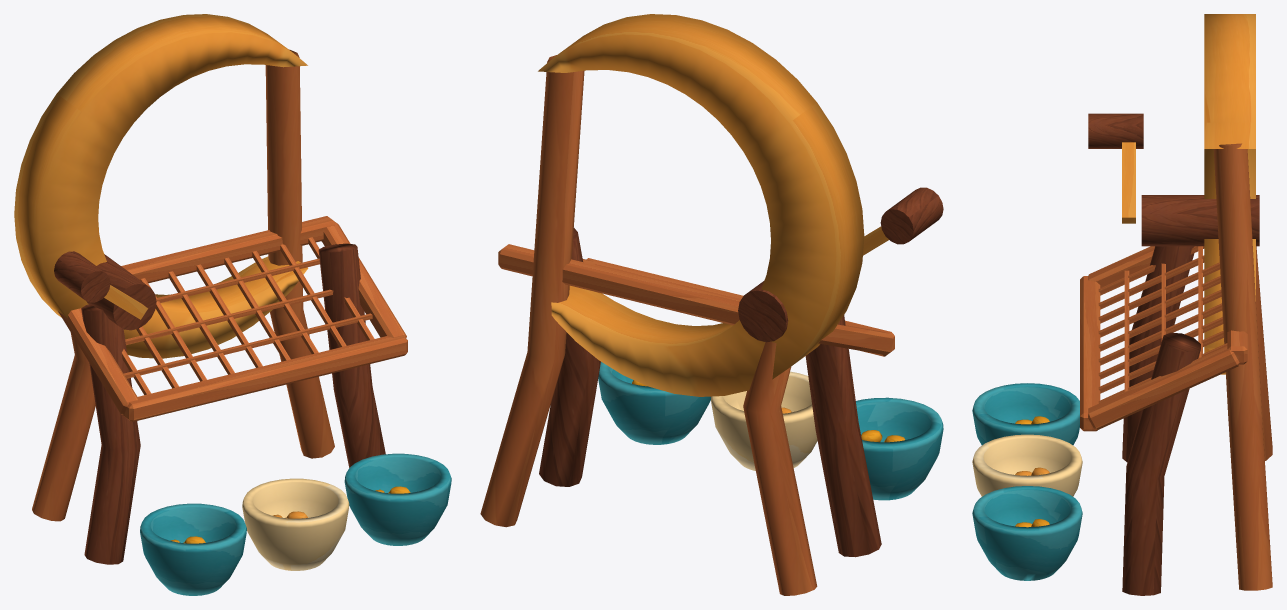
Rendered from revised-03-03.glb.
The picture shows the model from 3 angles, left to right: view 1: azimuth 30°, elevation 25°; view 2: azimuth 150°, elevation 25°; view 3: azimuth 270°, elevation 25°; orthographic projection. The views are drawn at different scales.
Parts seen in each view (by area): view 1: moon_sorter; view 2: moon_sorter; view 3: moon_sorter.
Part boxes in pixels (x1=…): moon_sorter: x1=14, y1=14, x2=451, y2=595; moon_sorter: x1=480, y1=14, x2=943, y2=595; moon_sorter: x1=972, y1=14, x2=1272, y2=595.
Size of the model in its own units: 1.08 by 1.46 by 0.8156.
1 material, 1 textured.
